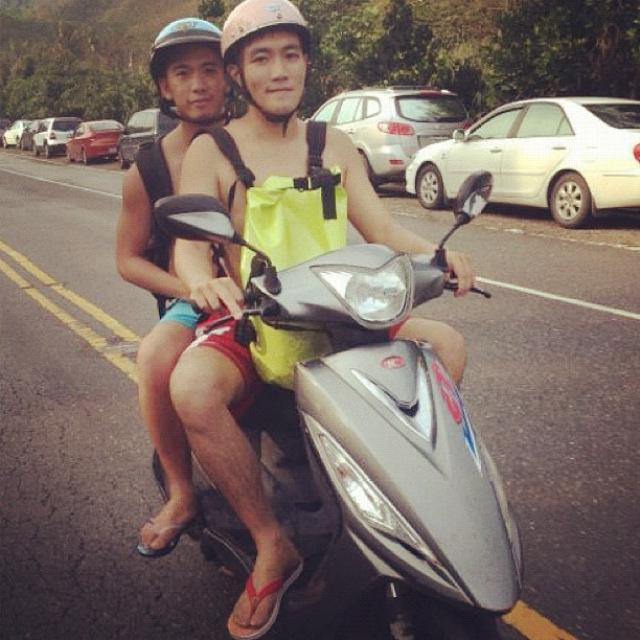motor: (247, 165, 525, 616)
